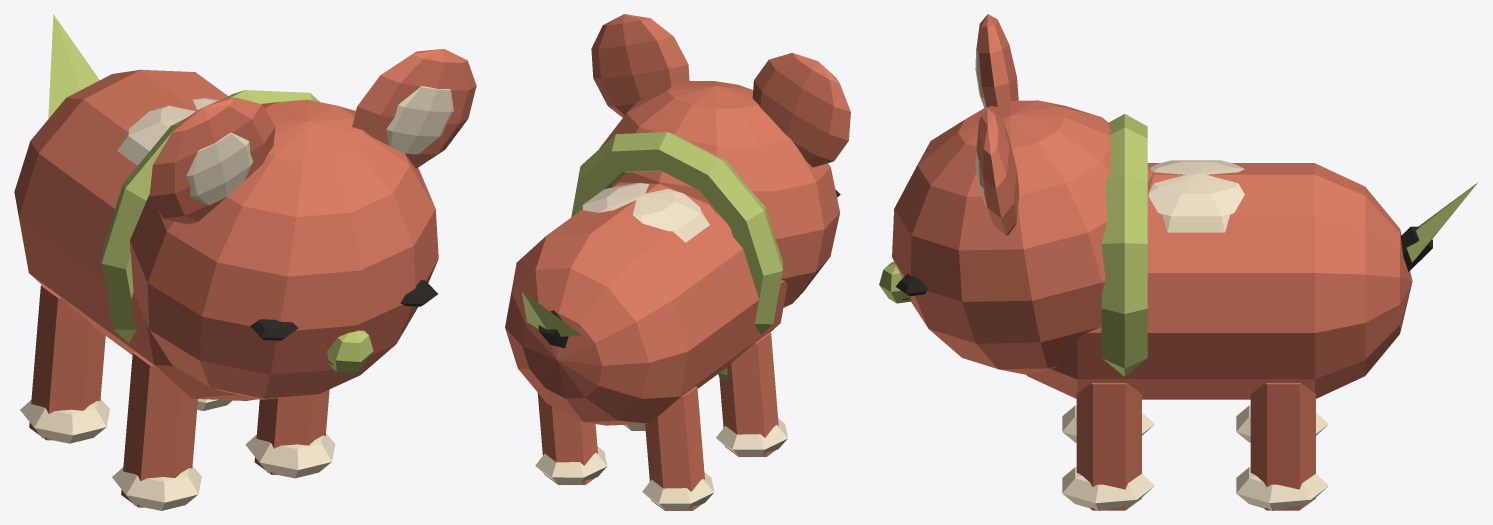
File: bean-forest-1.glb
The picture shows the model from 3 angles, left to right: view 1: azimuth 30°, elevation 25°; view 2: azimuth 150°, elevation 25°; view 3: azimuth 270°, elevation 25°; orthographic projection. The views are drawn at different scales.
Visible parts, largest first — view 1: bean-forest-1; view 2: bean-forest-1; view 3: bean-forest-1.
Boxes of the visible parts, x1,y1,x2,y2 form: bean-forest-1: (14,14,476,510); bean-forest-1: (505,14,850,510); bean-forest-1: (879,14,1477,510).
Bounding box in the file's own units: 0.5387 × 0.7 × 0.912.
